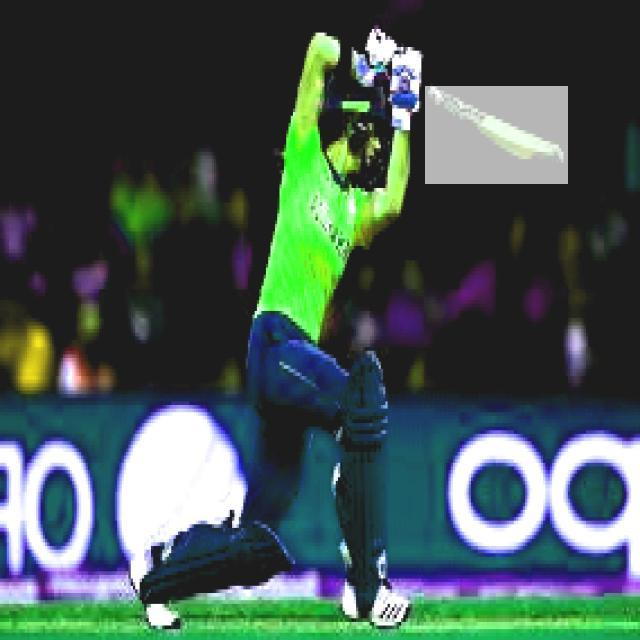bat: (424, 85, 566, 185)
toe: (533, 143, 568, 170)
